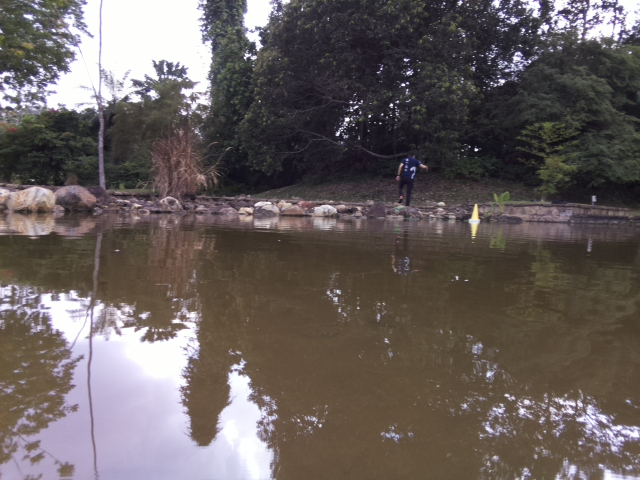checkpoint: (466, 204, 482, 225)
